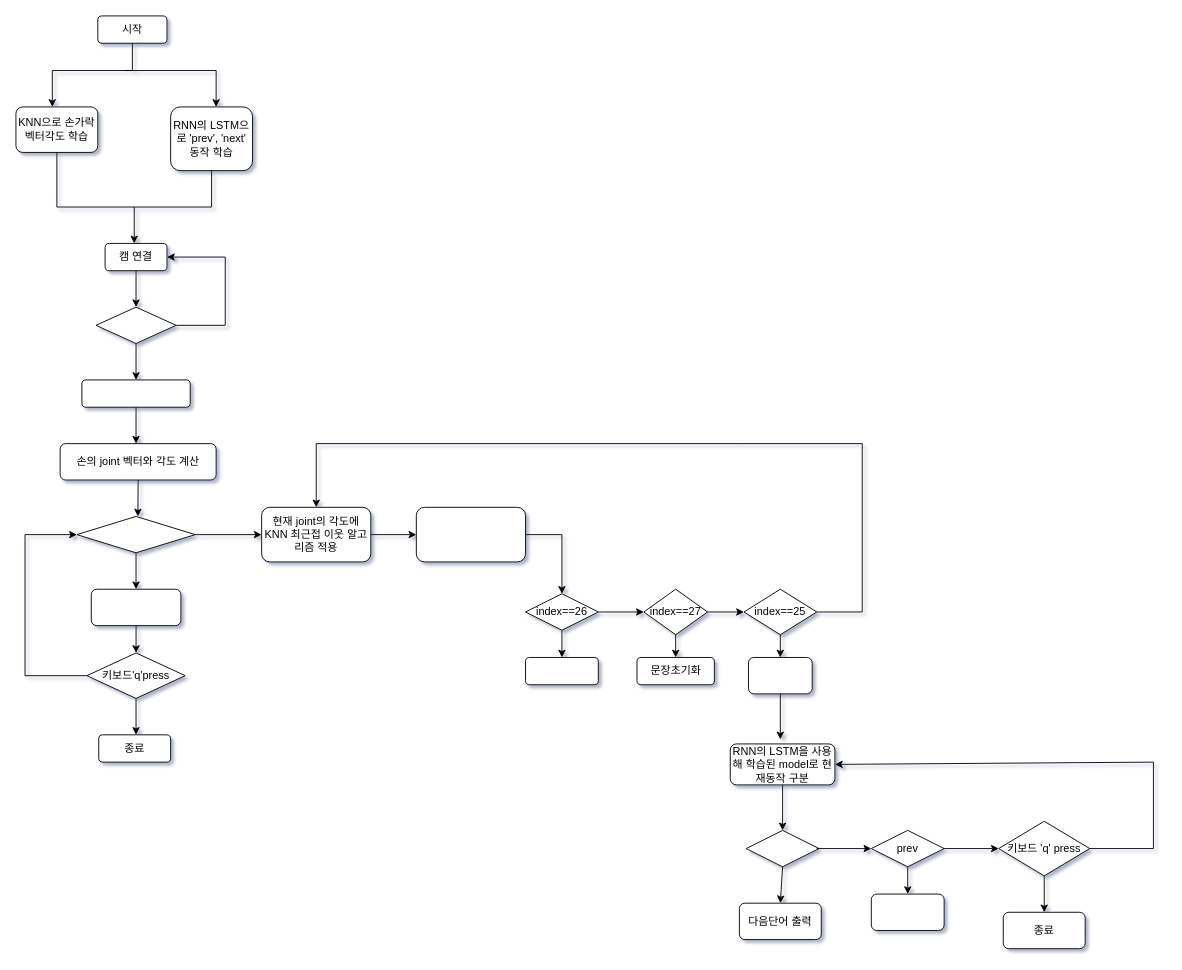
Image size: 1182x970. Some labels were removed from this diagram. Here are the shapes that lost their labels. From the top down, the box of each, then its label:
(95, 306, 176, 344): 연결확인
(81, 379, 190, 407): mediapipe로 손 인식
(76, 516, 195, 553): 키보드 'a' press
(415, 506, 526, 562): 현재 손 모양 인식, 화면에 출력
(90, 588, 181, 626): 현재 joint 벡터의 각도 test.txt에 write
(525, 657, 598, 685): 공백입력
(748, 657, 812, 694): 초성을 사전에서 검색
(745, 829, 819, 867): next
(870, 893, 944, 930): 이전단어 출력
